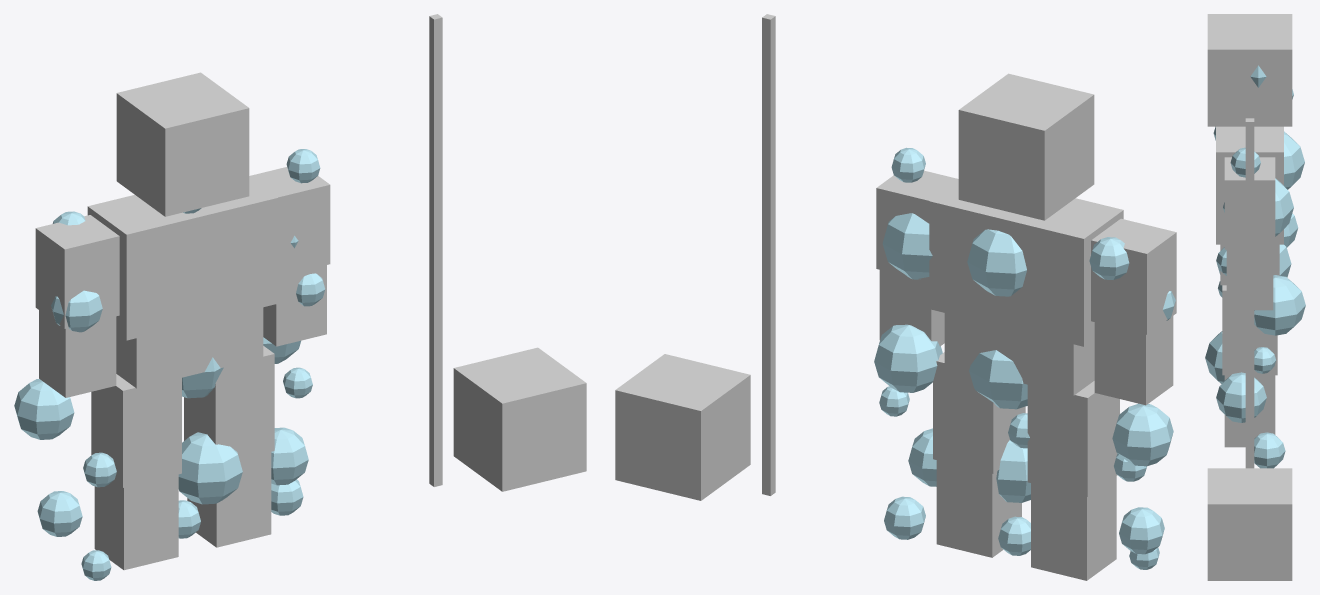
Rendered from Bubbles_LOD0_roblox.fbx.
3 renders of one model, left to right at view 1: azimuth 30°, elevation 25°; view 2: azimuth 150°, elevation 25°; view 3: azimuth 270°, elevation 25°, orthographic. The views are drawn at different scales.
Visible parts, largest first — view 1: Ref_UpperTorso, 1_Stud_Cube, Ref_Head, Ref_LeftUpperLeg, Ref_LowerTorso, Ref_LeftUpperArm, Ref_LeftLowerLeg, Ref_RightUpperLeg, 5.3_Stud_Height_Ruler, Ref_RightUpperArm, Ref_LeftLowerArm, Ref_RightLowerLeg (+14 smaller); view 2: Ref_UpperTorso, Ref_Head, 1_Stud_Cube, Ref_LeftUpperLeg, Ref_LeftLowerLeg, Ref_LeftUpperArm, 5.3_Stud_Height_Ruler, Ref_LowerTorso, Ref_RightUpperLeg, Ref_RightLowerLeg, Ref_LeftLowerArm, Bubbles_BubbleMat_bubble_19 (+13 smaller); view 3: 1_Stud_Cube, Ref_Head, Ref_RightUpperArm, 5.3_Stud_Height_Ruler, Ref_UpperTorso, Ref_RightLowerArm, Ref_RightUpperLeg, Bubbles_BubbleMat_bubble_19, Ref_RightLowerLeg, Bubbles_BubbleMat_bubble_17, Bubbles_BubbleMat_bubble_16, Bubbles_BubbleMat_bubble_13 (+9 smaller).
Boxes of the visible parts, box(x1,y1,x2,y2) form: Ref_UpperTorso: box(87, 177, 278, 340); 1_Stud_Cube: box(453, 347, 586, 491); Ref_Head: box(116, 72, 249, 216); Ref_LeftUpperLeg: box(91, 374, 181, 487); Ref_LowerTorso: box(116, 307, 263, 388); Ref_LeftUpperArm: box(35, 215, 119, 328); Ref_LeftLowerLeg: box(94, 474, 178, 570); Ref_RightUpperLeg: box(184, 346, 274, 459); 5.3_Stud_Height_Ruler: box(429, 14, 442, 486); Ref_RightUpperArm: box(249, 167, 330, 276); Ref_LeftLowerArm: box(39, 310, 116, 397); Ref_RightLowerLeg: box(187, 452, 271, 547); Ref_UpperTorso: box(929, 180, 1123, 346); Ref_Head: box(958, 73, 1094, 220); 1_Stud_Cube: box(615, 354, 750, 500); Ref_LeftUpperLeg: box(1027, 381, 1119, 496); Ref_LeftLowerLeg: box(1031, 476, 1116, 580); Ref_LeftUpperArm: box(1091, 218, 1176, 334); 5.3_Stud_Height_Ruler: box(762, 14, 775, 495); Ref_LowerTorso: box(944, 313, 1094, 395); Ref_RightUpperLeg: box(933, 352, 1025, 473); Ref_RightLowerLeg: box(936, 460, 1021, 557); Ref_LeftLowerArm: box(1094, 316, 1173, 405); Bubbles_BubbleMat_bubble_19: box(874, 324, 942, 392); 1_Stud_Cube: box(1207, 468, 1292, 580); Ref_Head: box(1207, 14, 1292, 126); Ref_RightUpperArm: box(1224, 157, 1275, 249); 5.3_Stud_Height_Ruler: box(1245, 118, 1254, 468); Ref_UpperTorso: box(1216, 126, 1283, 244); Ref_RightLowerArm: box(1226, 249, 1273, 310); Ref_RightUpperLeg: box(1222, 285, 1277, 375); Bubbles_BubbleMat_bubble_19: box(1254, 275, 1305, 335); Ref_RightLowerLeg: box(1224, 375, 1275, 447); Bubbles_BubbleMat_bubble_17: box(1216, 372, 1266, 422); Bubbles_BubbleMat_bubble_16: box(1254, 432, 1285, 468); Bubbles_BubbleMat_bubble_13: box(1284, 131, 1304, 189).
Size of the model in its own units: 6.32 by 1.19 by 5.32.
